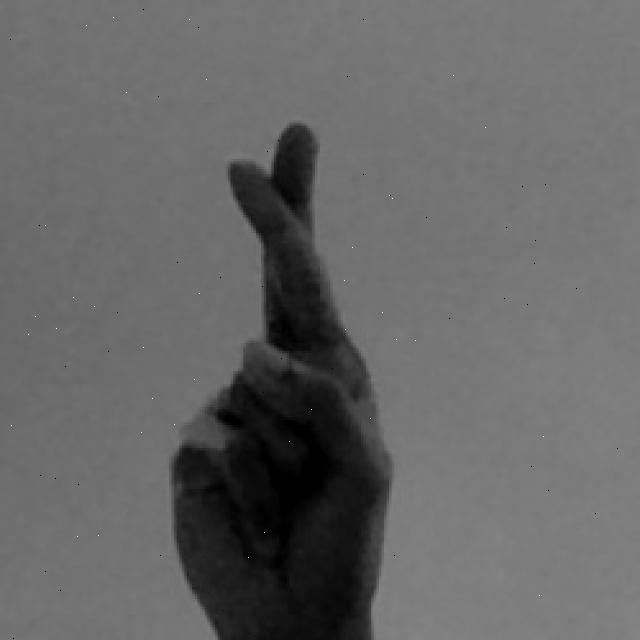R: (166, 115, 402, 640)
